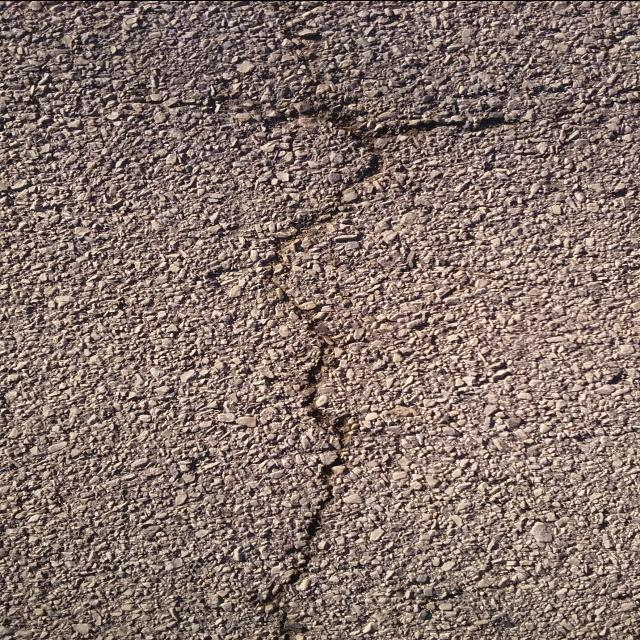Crack: (255, 0, 514, 640)
